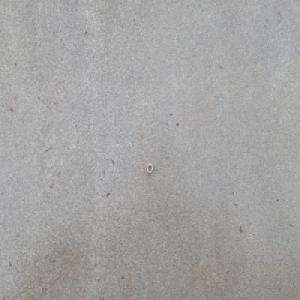Nut: (146, 162, 153, 174)
